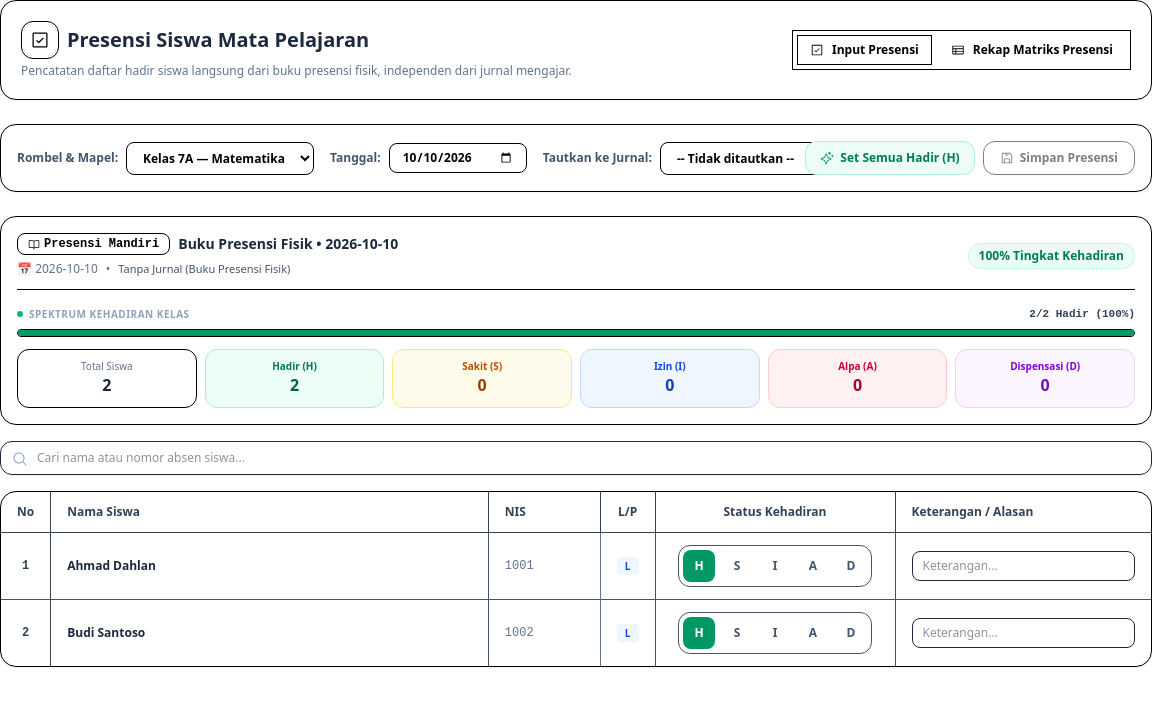
Test: SubjectAttendancePage UX & Guard Implementation › 2. tracks dirty state when attendance status or note is updated
expect the text "Ahmad Dahlan" is shown: met, box x1=67 y1=558 x2=156 y2=574
Note: Modify Ahmad Dahlan status to Sakit (S)
Click the button titled "Sakit (S)" in the row of "Ahmad Dahlan": x=737, y=566 x1=721 y1=550 x2=753 y2=582
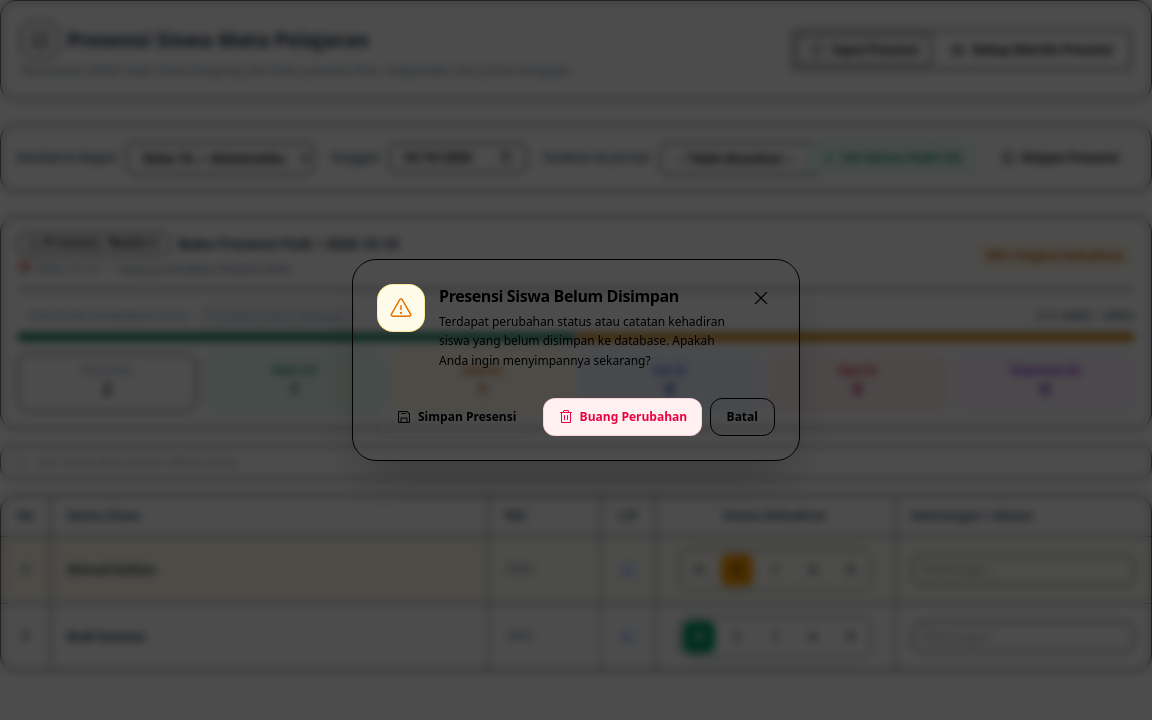
expect the dialog is shown: met, box x1=352 y1=259 x2=800 y2=461
